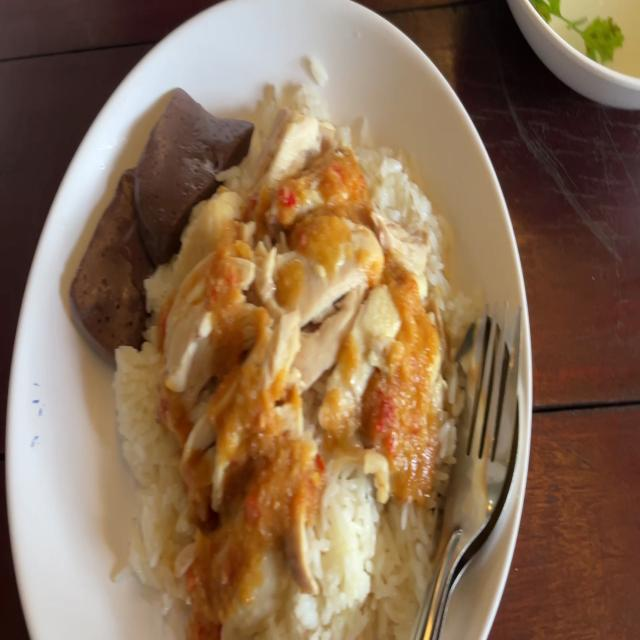boiled_chicken: (172, 156, 404, 522)
boiled_chicken_blood_jelly: (135, 89, 244, 237), (74, 161, 154, 333)
chicken_rice: (72, 59, 468, 636)
